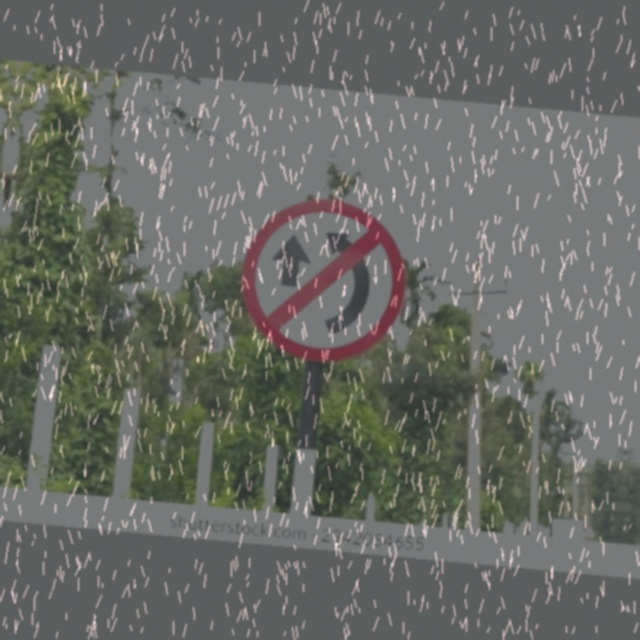Overtaking_Prohibited: (235, 197, 414, 373)
